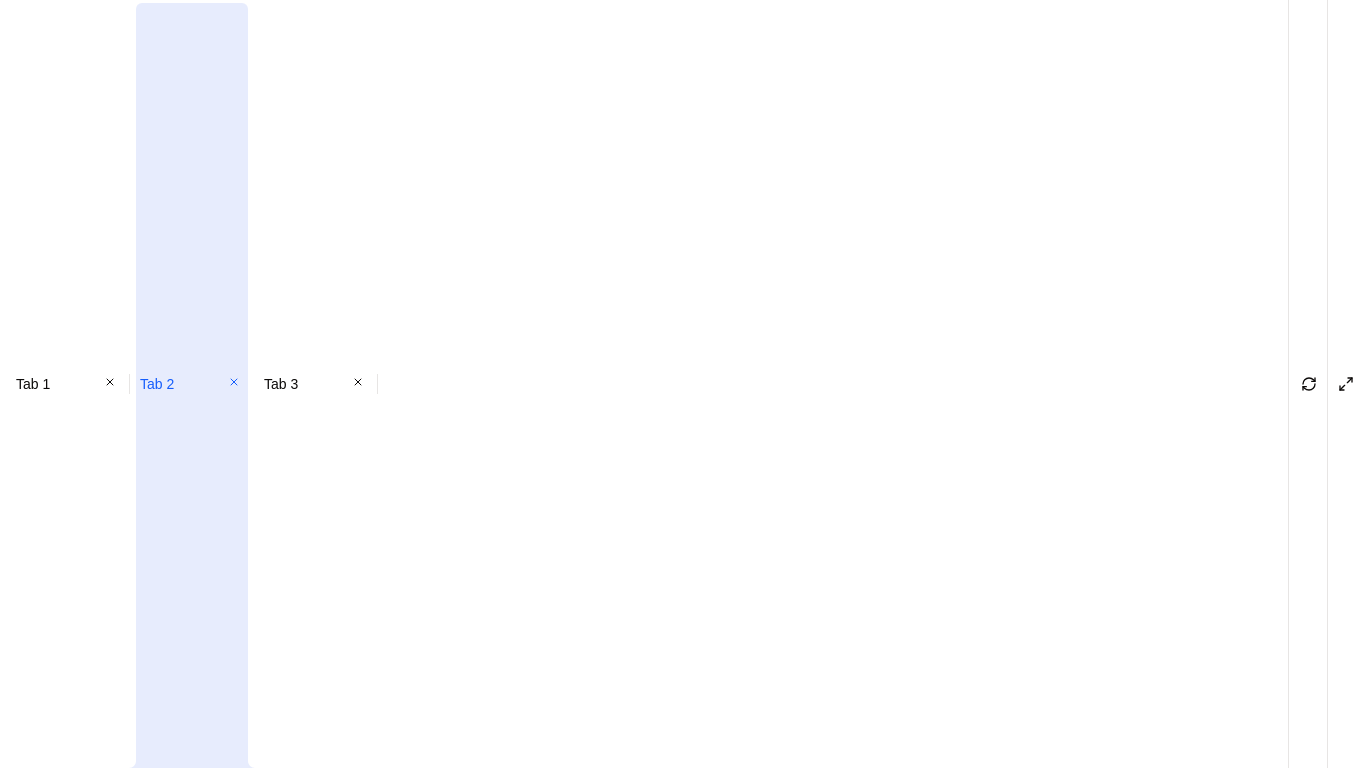
NavTab › 右键标签弹出包含刷新与四个关闭项的菜单
Right-click the text "Tab 2" at [157, 384], box [140,376,240,392]
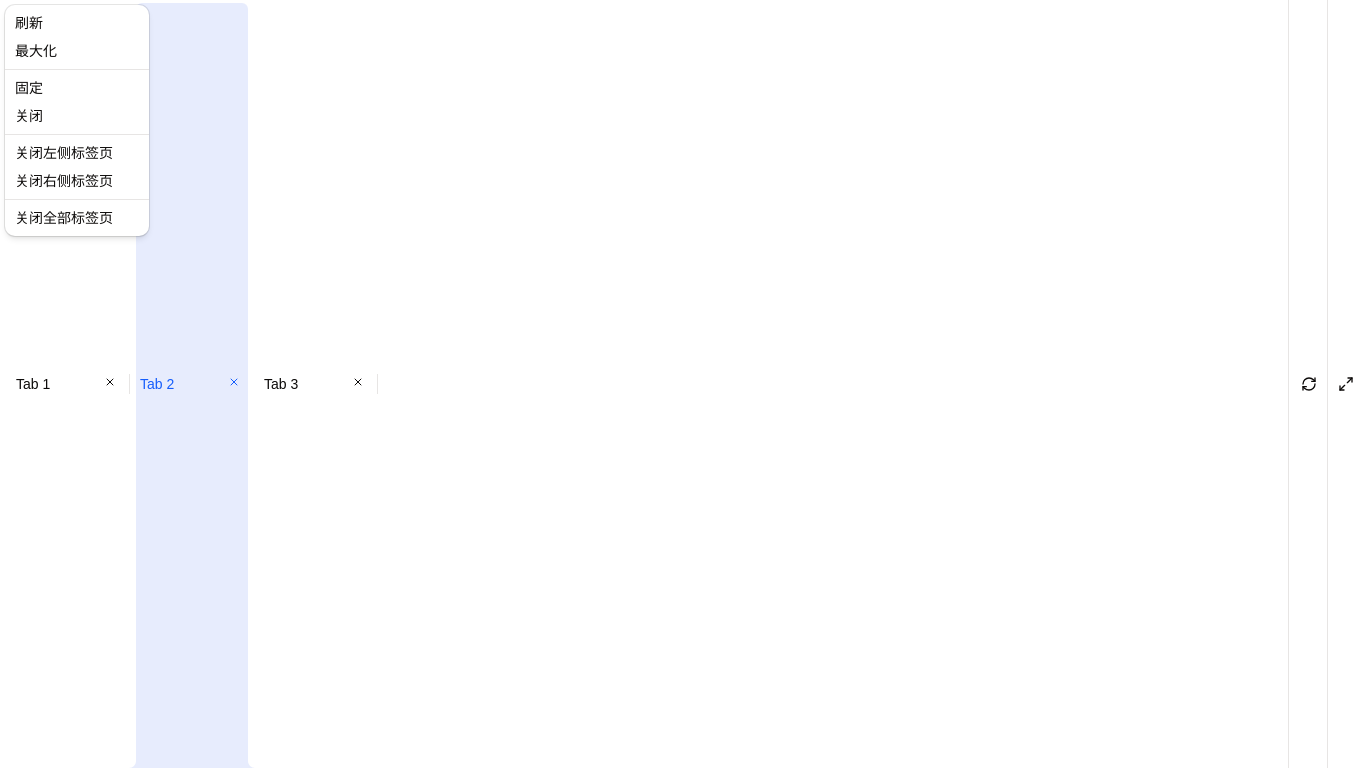
Expected: the menu item "刷新" is shown, [15,15,43,31]
Expected: the menu item "关闭" is shown, [15,108,43,124]
Expected: the menu item "关闭左侧标签页" is shown, [15,145,113,161]
